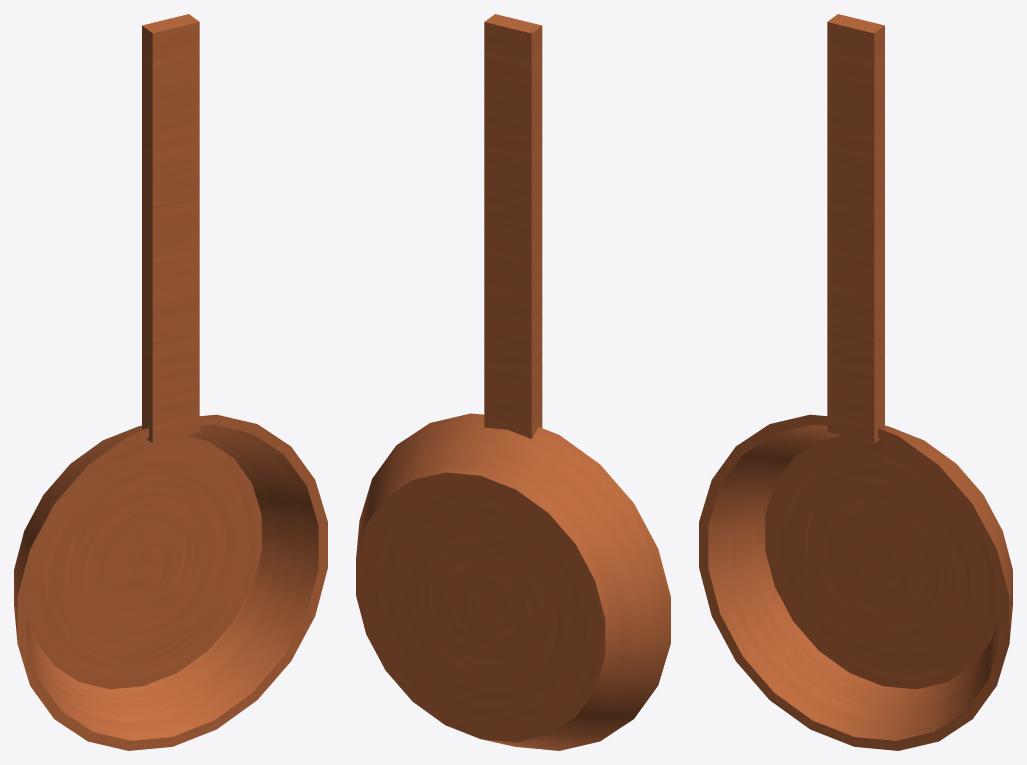
Rendered from SM_Pan_Copper_S.fbx.
The picture shows the model from 3 angles, left to right: view 1: azimuth 30°, elevation 25°; view 2: azimuth 150°, elevation 25°; view 3: azimuth 330°, elevation 25°; orthographic projection.
Visible parts, largest first — view 1: SM_Pan_Copper_S; view 2: SM_Pan_Copper_S; view 3: SM_Pan_Copper_S.
Part boxes in pixels (x1,y1,x2,y2): SM_Pan_Copper_S: (14, 14, 327, 750); SM_Pan_Copper_S: (356, 14, 670, 750); SM_Pan_Copper_S: (699, 14, 1012, 750).
Size of the model in its own units: 0.198 by 0.44 by 0.042.
Materials: 1 (1 with a texture image).
